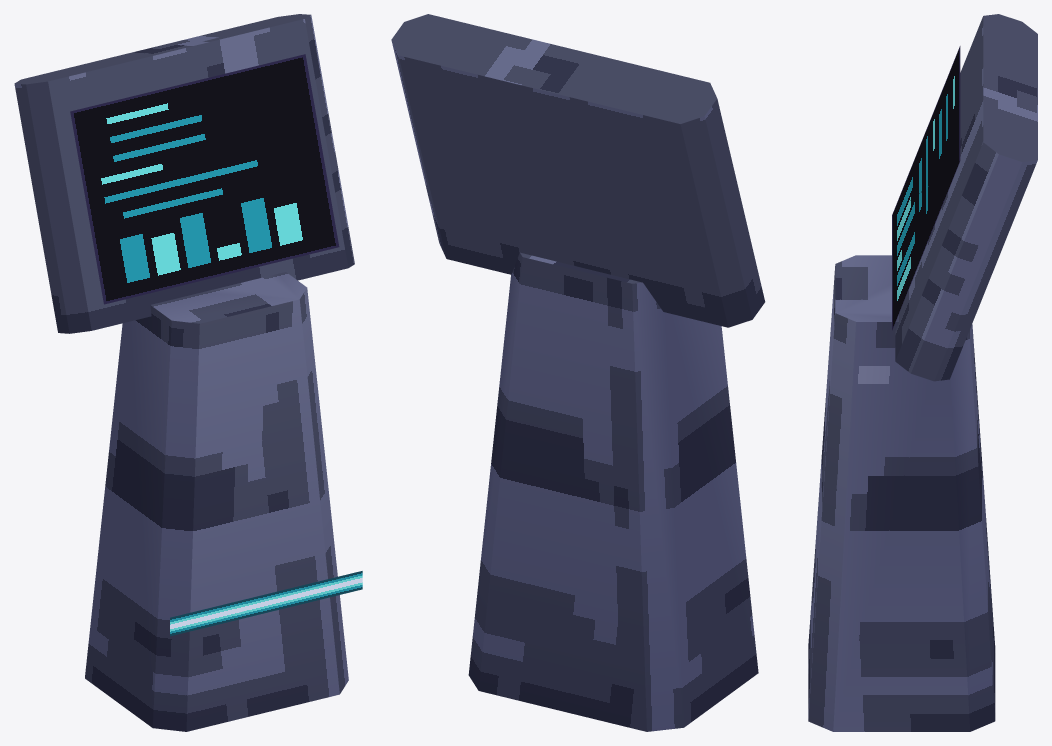
Rendered from cytech.terminal.glb.
3 renders of one model, left to right at view 1: azimuth 30°, elevation 25°; view 2: azimuth 150°, elevation 25°; view 3: azimuth 270°, elevation 25°, orthographic. The views are drawn at different scales.
Visible parts, largest first — view 1: kit_body, kit_card_screen; view 2: kit_body; view 3: kit_body, kit_card_screen.
Part boxes in pixels (x1,y1,x2,y2): kit_body: (14, 14, 354, 731); kit_card_screen: (70, 54, 362, 636); kit_body: (391, 14, 765, 731); kit_body: (808, 14, 1037, 731); kit_card_screen: (892, 46, 960, 330).
Bounding box in the file's own units: 0.8 × 1.61 × 0.5678.
5 materials, 5 textured.
